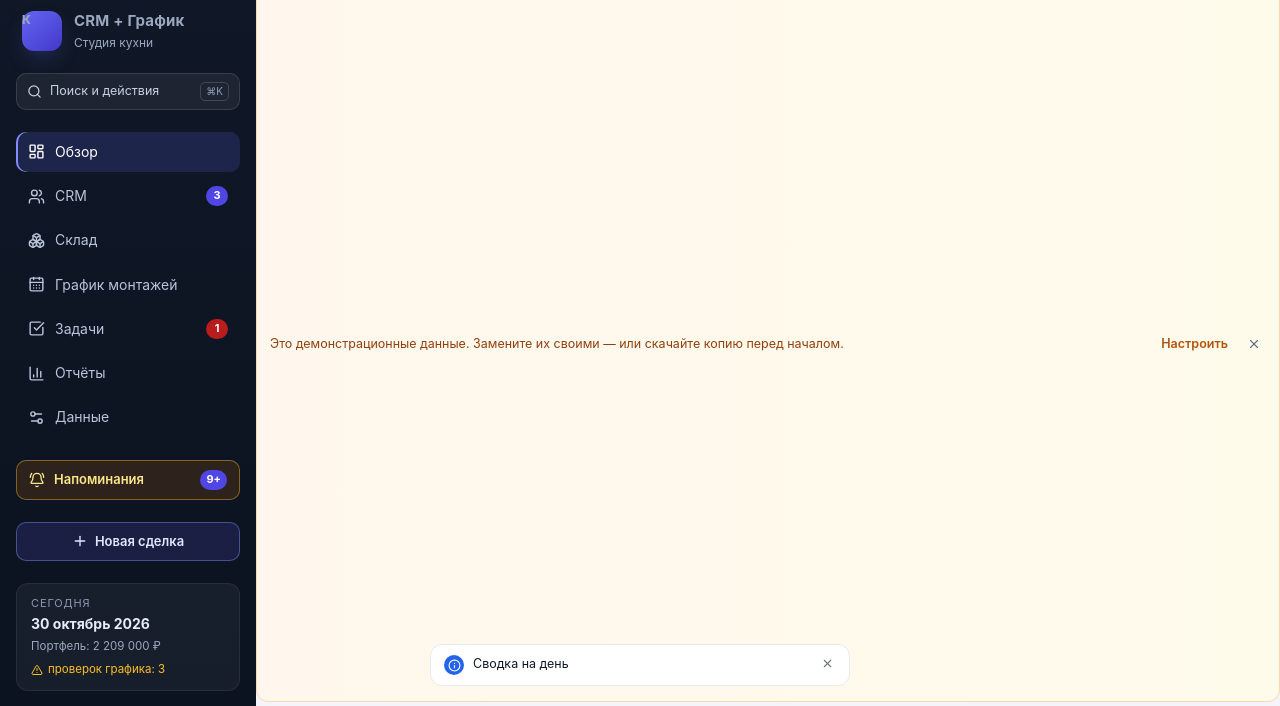
Test case: раздел «Отчёты» › показывает долги по демо-данным и ведёт в сделку
This screenshot has width=1280, height=706.
What coordinates should you click on to do the following:
click the button "Отчёты"
I would click on:
 (128, 373)
Its box is [16,353,240,393].
(page scrolled)
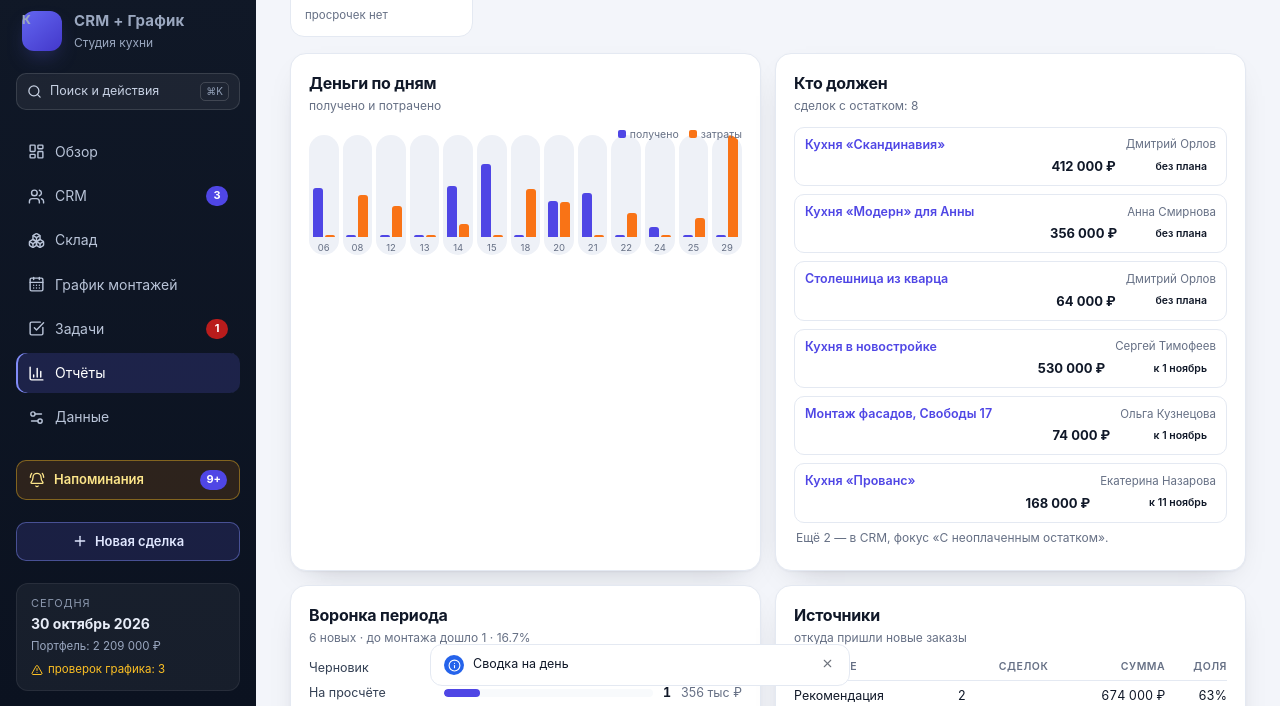
Check: the text "Кто должен" is shown, box [794,73,888,93]
// «Кухня в новостройке» согласована, предоплаты нет — значит должна быть в списке.
What coordinates should you click on to do the following:
click the button "Кухня в новостройке"
I would click on:
 (871, 346)
Its box is [805,338,1105,356].
(page scrolled)
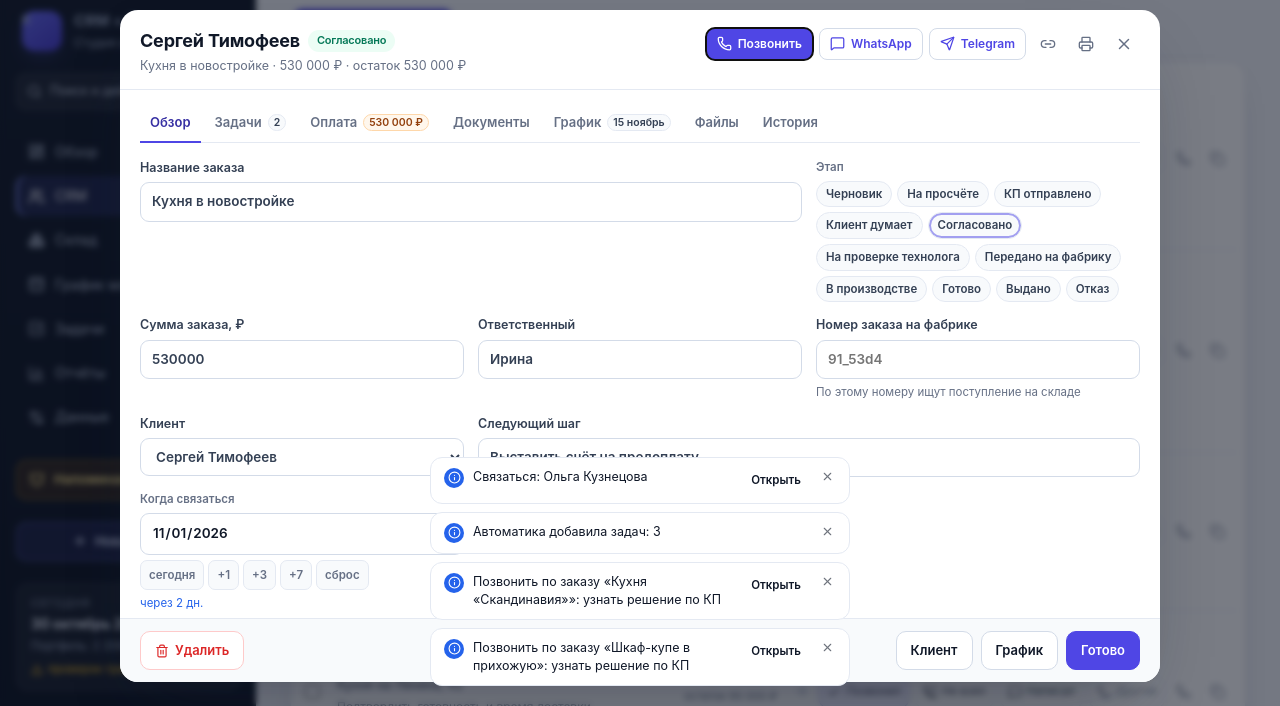
Check: the dialog is shown
